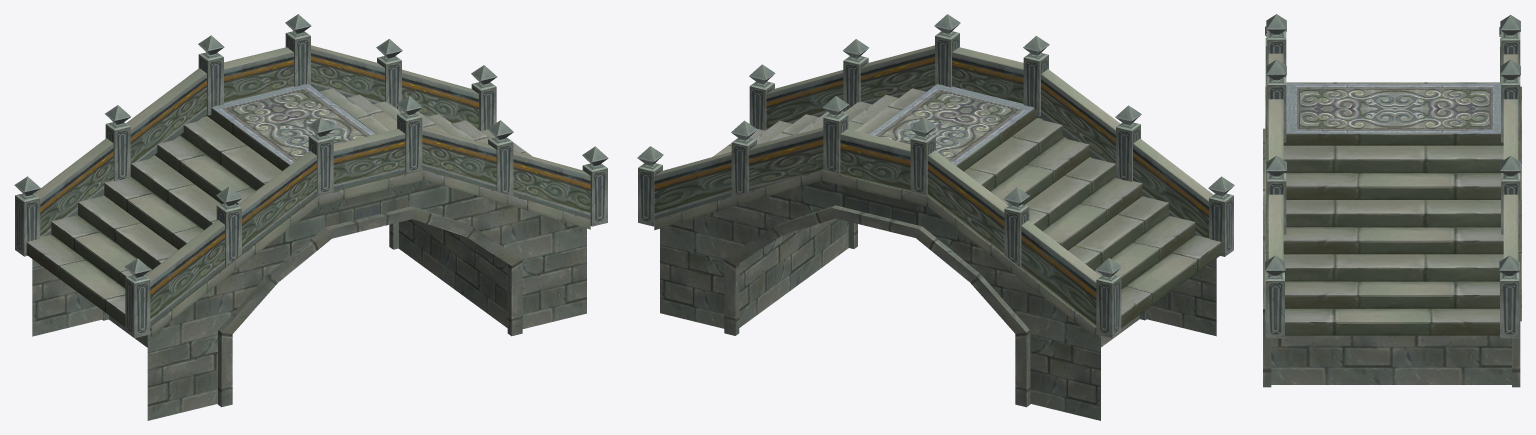
The model's file is suzhoucheng_building_qiao.FBX.
3 renders of one model, left to right at view 1: azimuth 30°, elevation 25°; view 2: azimuth 150°, elevation 25°; view 3: azimuth 270°, elevation 25°, orthographic. The views are drawn at different scales.
Parts seen in each view (by area): view 1: suzhoucheng_building_qiao; view 2: suzhoucheng_building_qiao; view 3: suzhoucheng_building_qiao.
Part boxes in pixels (bbox=[...]): suzhoucheng_building_qiao: bbox=[14, 14, 608, 420]; suzhoucheng_building_qiao: bbox=[637, 14, 1234, 420]; suzhoucheng_building_qiao: bbox=[1263, 14, 1521, 387].
Bounding box in the file's own units: 613 × 321 × 275.
